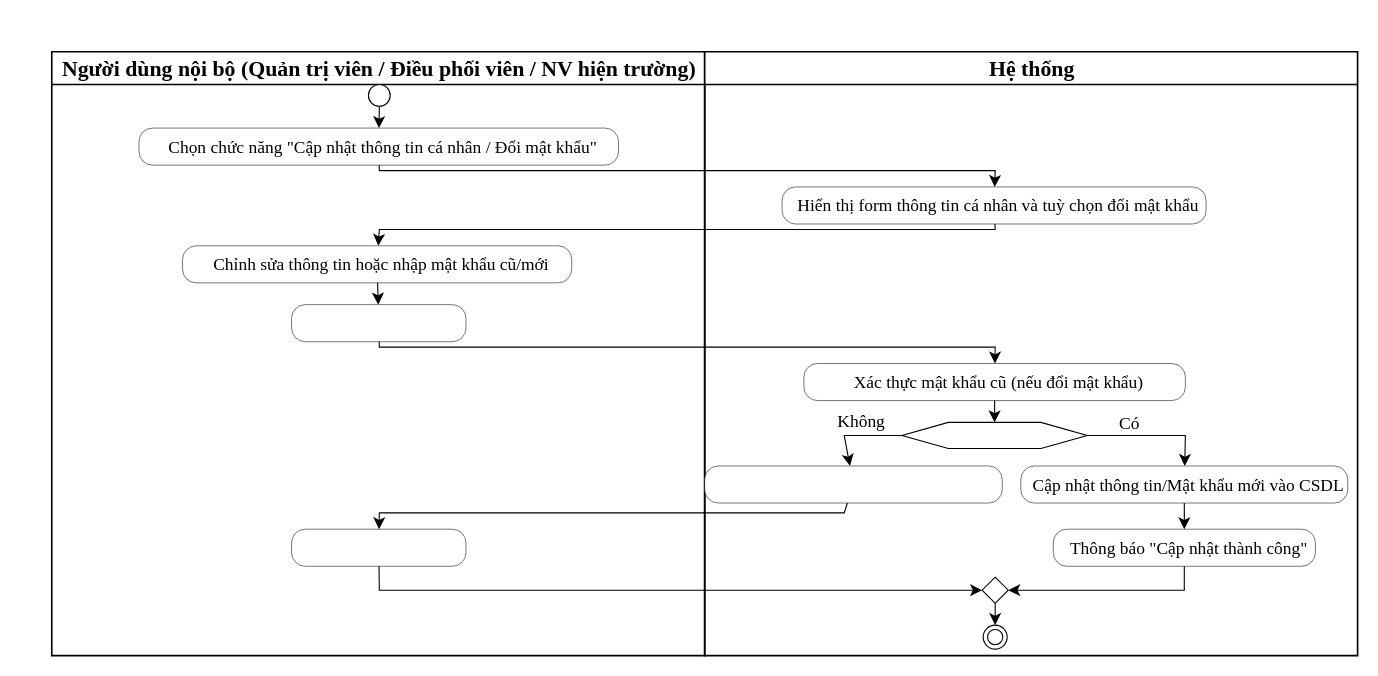
This 1378x676 diagram has some shape labels left out. The shapes that lost their labels are listed below. From the top down, each one's centre as x and y in pixels, then its label:
(378,322): Nhấn "Lưu thay đổi"
(994,435): Xác thực thành công?
(853,484): Báo lỗi "Mật khẩu cũ không chính xác"
(378,547): Nhập lại thông tin
